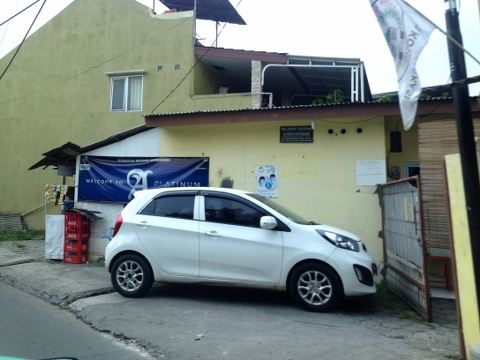mobil: (105, 186, 377, 312)
